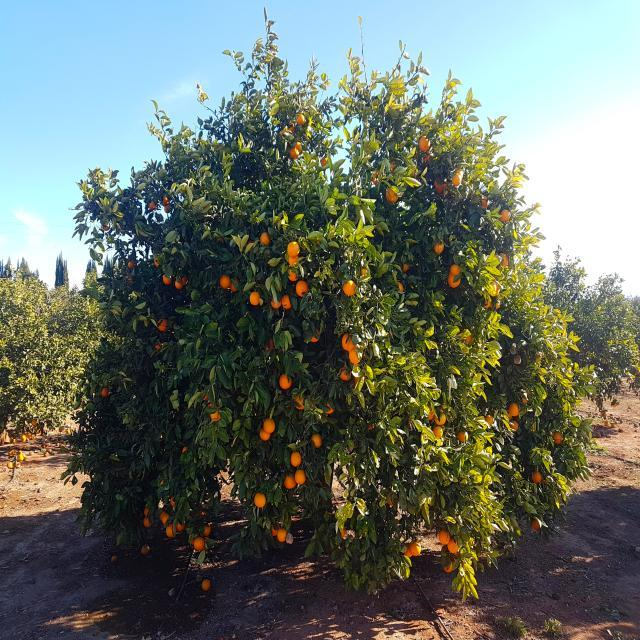Jeruk Sudah Matang: (295, 392, 307, 410), (341, 332, 353, 350), (296, 281, 309, 297), (447, 274, 461, 288), (339, 366, 352, 381), (409, 541, 422, 556), (254, 492, 266, 508), (284, 472, 296, 488), (295, 470, 307, 486), (344, 280, 356, 296), (279, 374, 292, 388), (347, 338, 360, 352), (288, 242, 300, 257), (350, 349, 362, 364), (354, 371, 366, 386), (386, 187, 398, 202), (220, 274, 231, 290), (324, 398, 334, 415), (276, 528, 288, 542), (311, 434, 323, 448), (448, 538, 460, 552), (291, 452, 302, 467), (210, 406, 220, 422), (282, 294, 292, 310), (439, 530, 449, 546), (264, 419, 276, 432), (288, 268, 299, 282), (490, 281, 500, 296), (166, 524, 176, 538), (201, 523, 211, 537), (158, 318, 168, 332), (270, 522, 280, 536), (264, 338, 274, 352), (230, 278, 240, 292), (250, 292, 260, 306), (272, 295, 282, 309), (310, 328, 320, 342), (420, 136, 430, 150), (436, 178, 446, 192), (510, 402, 520, 416), (288, 256, 300, 267), (260, 428, 270, 441), (260, 232, 270, 245), (433, 426, 443, 439), (434, 241, 444, 254), (498, 253, 508, 266), (176, 518, 185, 532), (195, 536, 204, 550), (403, 544, 412, 558), (388, 493, 398, 505), (463, 329, 471, 344), (532, 518, 542, 530), (532, 470, 542, 482), (554, 432, 564, 444), (373, 170, 382, 183), (338, 524, 346, 538), (481, 194, 489, 208), (444, 559, 452, 573), (436, 413, 446, 424), (411, 166, 421, 177), (391, 160, 400, 172), (459, 430, 468, 442), (501, 210, 510, 222), (453, 172, 461, 185), (485, 415, 494, 426), (509, 421, 518, 432), (202, 579, 210, 591), (201, 390, 209, 402), (307, 399, 315, 411), (484, 296, 492, 308), (141, 544, 150, 554), (153, 342, 162, 352), (174, 279, 183, 289), (290, 148, 299, 158), (453, 552, 462, 562), (144, 517, 152, 528), (298, 114, 306, 125), (287, 122, 295, 133), (425, 152, 433, 163), (452, 264, 459, 276), (162, 514, 170, 524), (148, 199, 156, 209), (163, 274, 171, 284), (294, 142, 302, 152), (360, 266, 368, 276), (504, 410, 512, 420), (492, 300, 500, 310), (189, 534, 196, 545), (162, 196, 170, 205), (178, 276, 187, 284), (102, 387, 109, 397), (170, 496, 177, 506), (182, 446, 189, 456), (321, 158, 328, 168), (397, 283, 404, 293), (536, 351, 543, 361), (407, 416, 413, 427), (154, 258, 160, 268), (428, 408, 433, 420), (402, 262, 408, 272), (458, 168, 464, 178), (164, 205, 171, 213), (368, 424, 375, 432), (128, 260, 134, 269), (144, 508, 150, 516), (126, 275, 132, 283), (104, 222, 110, 230), (522, 396, 528, 404), (18, 454, 24, 461), (111, 556, 118, 562), (21, 434, 26, 442), (199, 507, 204, 515), (160, 511, 164, 520), (32, 419, 37, 425), (160, 479, 164, 486), (59, 427, 63, 432), (67, 429, 70, 434)
